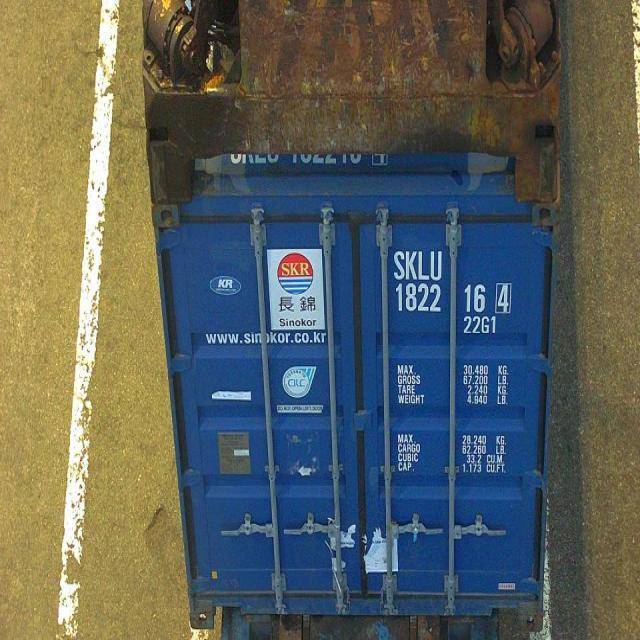ISO: (464, 316, 496, 334)
container_number: (392, 245, 512, 314)
